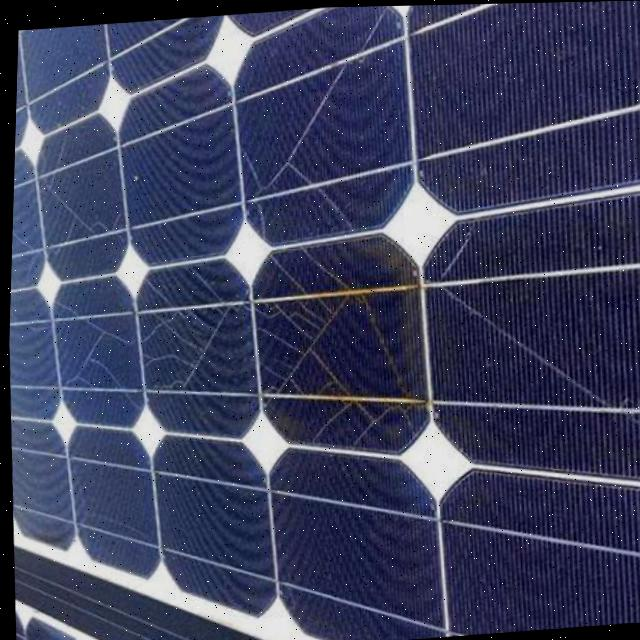Anomaly Solar Panel: (7, 0, 640, 640)
Normal Solar Panel: (15, 597, 101, 640)
Structural Damage: (434, 286, 610, 412), (227, 92, 363, 218), (123, 282, 229, 402), (252, 296, 354, 404), (59, 319, 139, 404), (25, 186, 119, 257), (350, 403, 410, 448), (297, 248, 346, 292), (310, 185, 354, 232), (434, 230, 472, 284), (307, 400, 351, 445), (265, 254, 306, 298), (168, 310, 209, 350), (188, 268, 221, 305), (355, 9, 381, 54), (9, 209, 29, 257), (140, 278, 171, 307), (119, 390, 141, 412), (49, 299, 77, 316), (252, 204, 265, 238)
